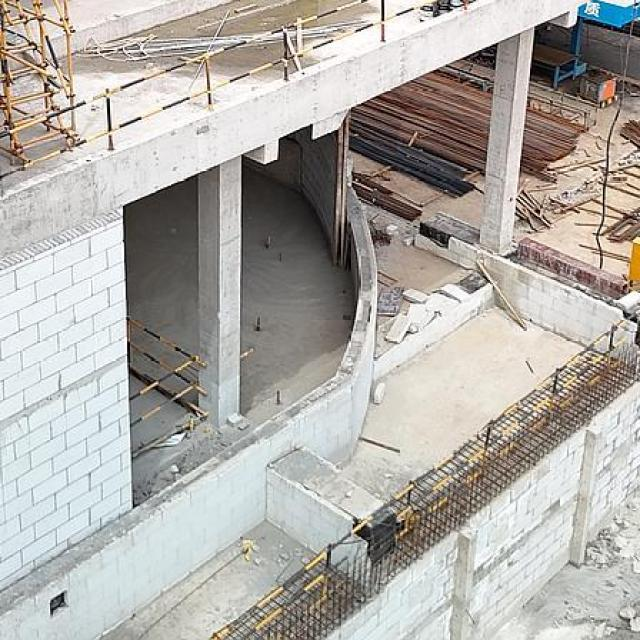Guardrail: (208, 317, 626, 640), (0, 0, 441, 183), (125, 316, 208, 460)
